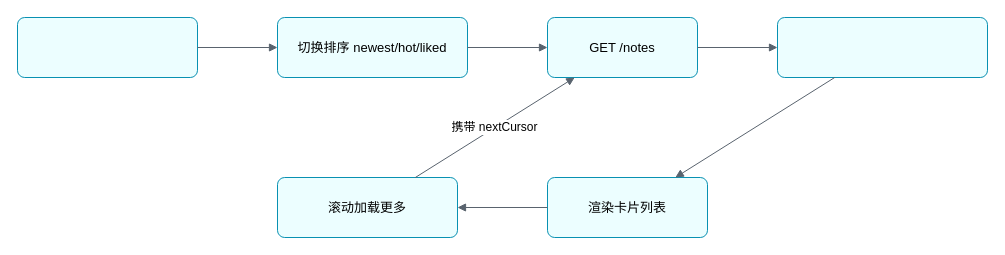
The diagram is 1005 pixels wide and 255 high, and some of its shapes have lost their labels. Each missing label, with the box of its shape:
服务端过滤并 cursor 分页: (776, 16, 988, 78)
选择分类/搜索/标签: (16, 16, 198, 78)
